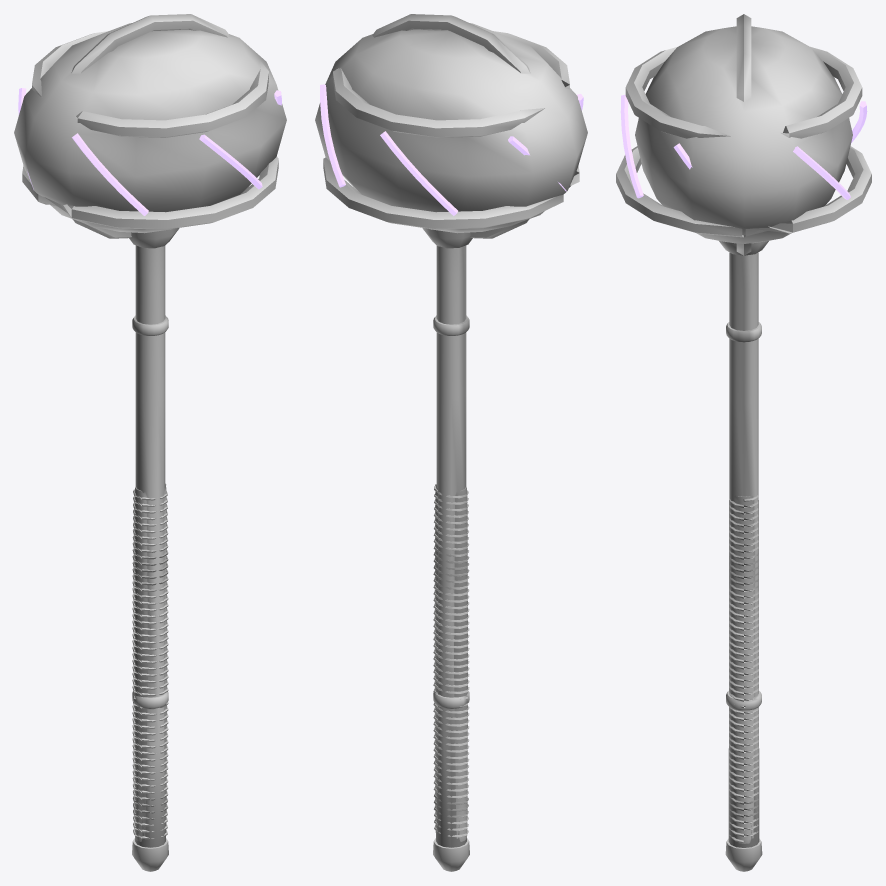
The model's file is starfall_maul_void.glb.
3 views of the same model, side by side, from view 1: azimuth 30°, elevation 25°; view 2: azimuth 150°, elevation 25°; view 3: azimuth 270°, elevation 25° (orthographic).
Visible parts, largest first — view 1: starfall_maul_void; view 2: starfall_maul_void; view 3: starfall_maul_void.
Part boxes in pixels (x1,y1,x2,y2): starfall_maul_void: (14, 14, 286, 871); starfall_maul_void: (315, 14, 587, 871); starfall_maul_void: (616, 14, 871, 871).
Bounding box in the file's own units: 0.6 × 1.95 × 0.5346.
